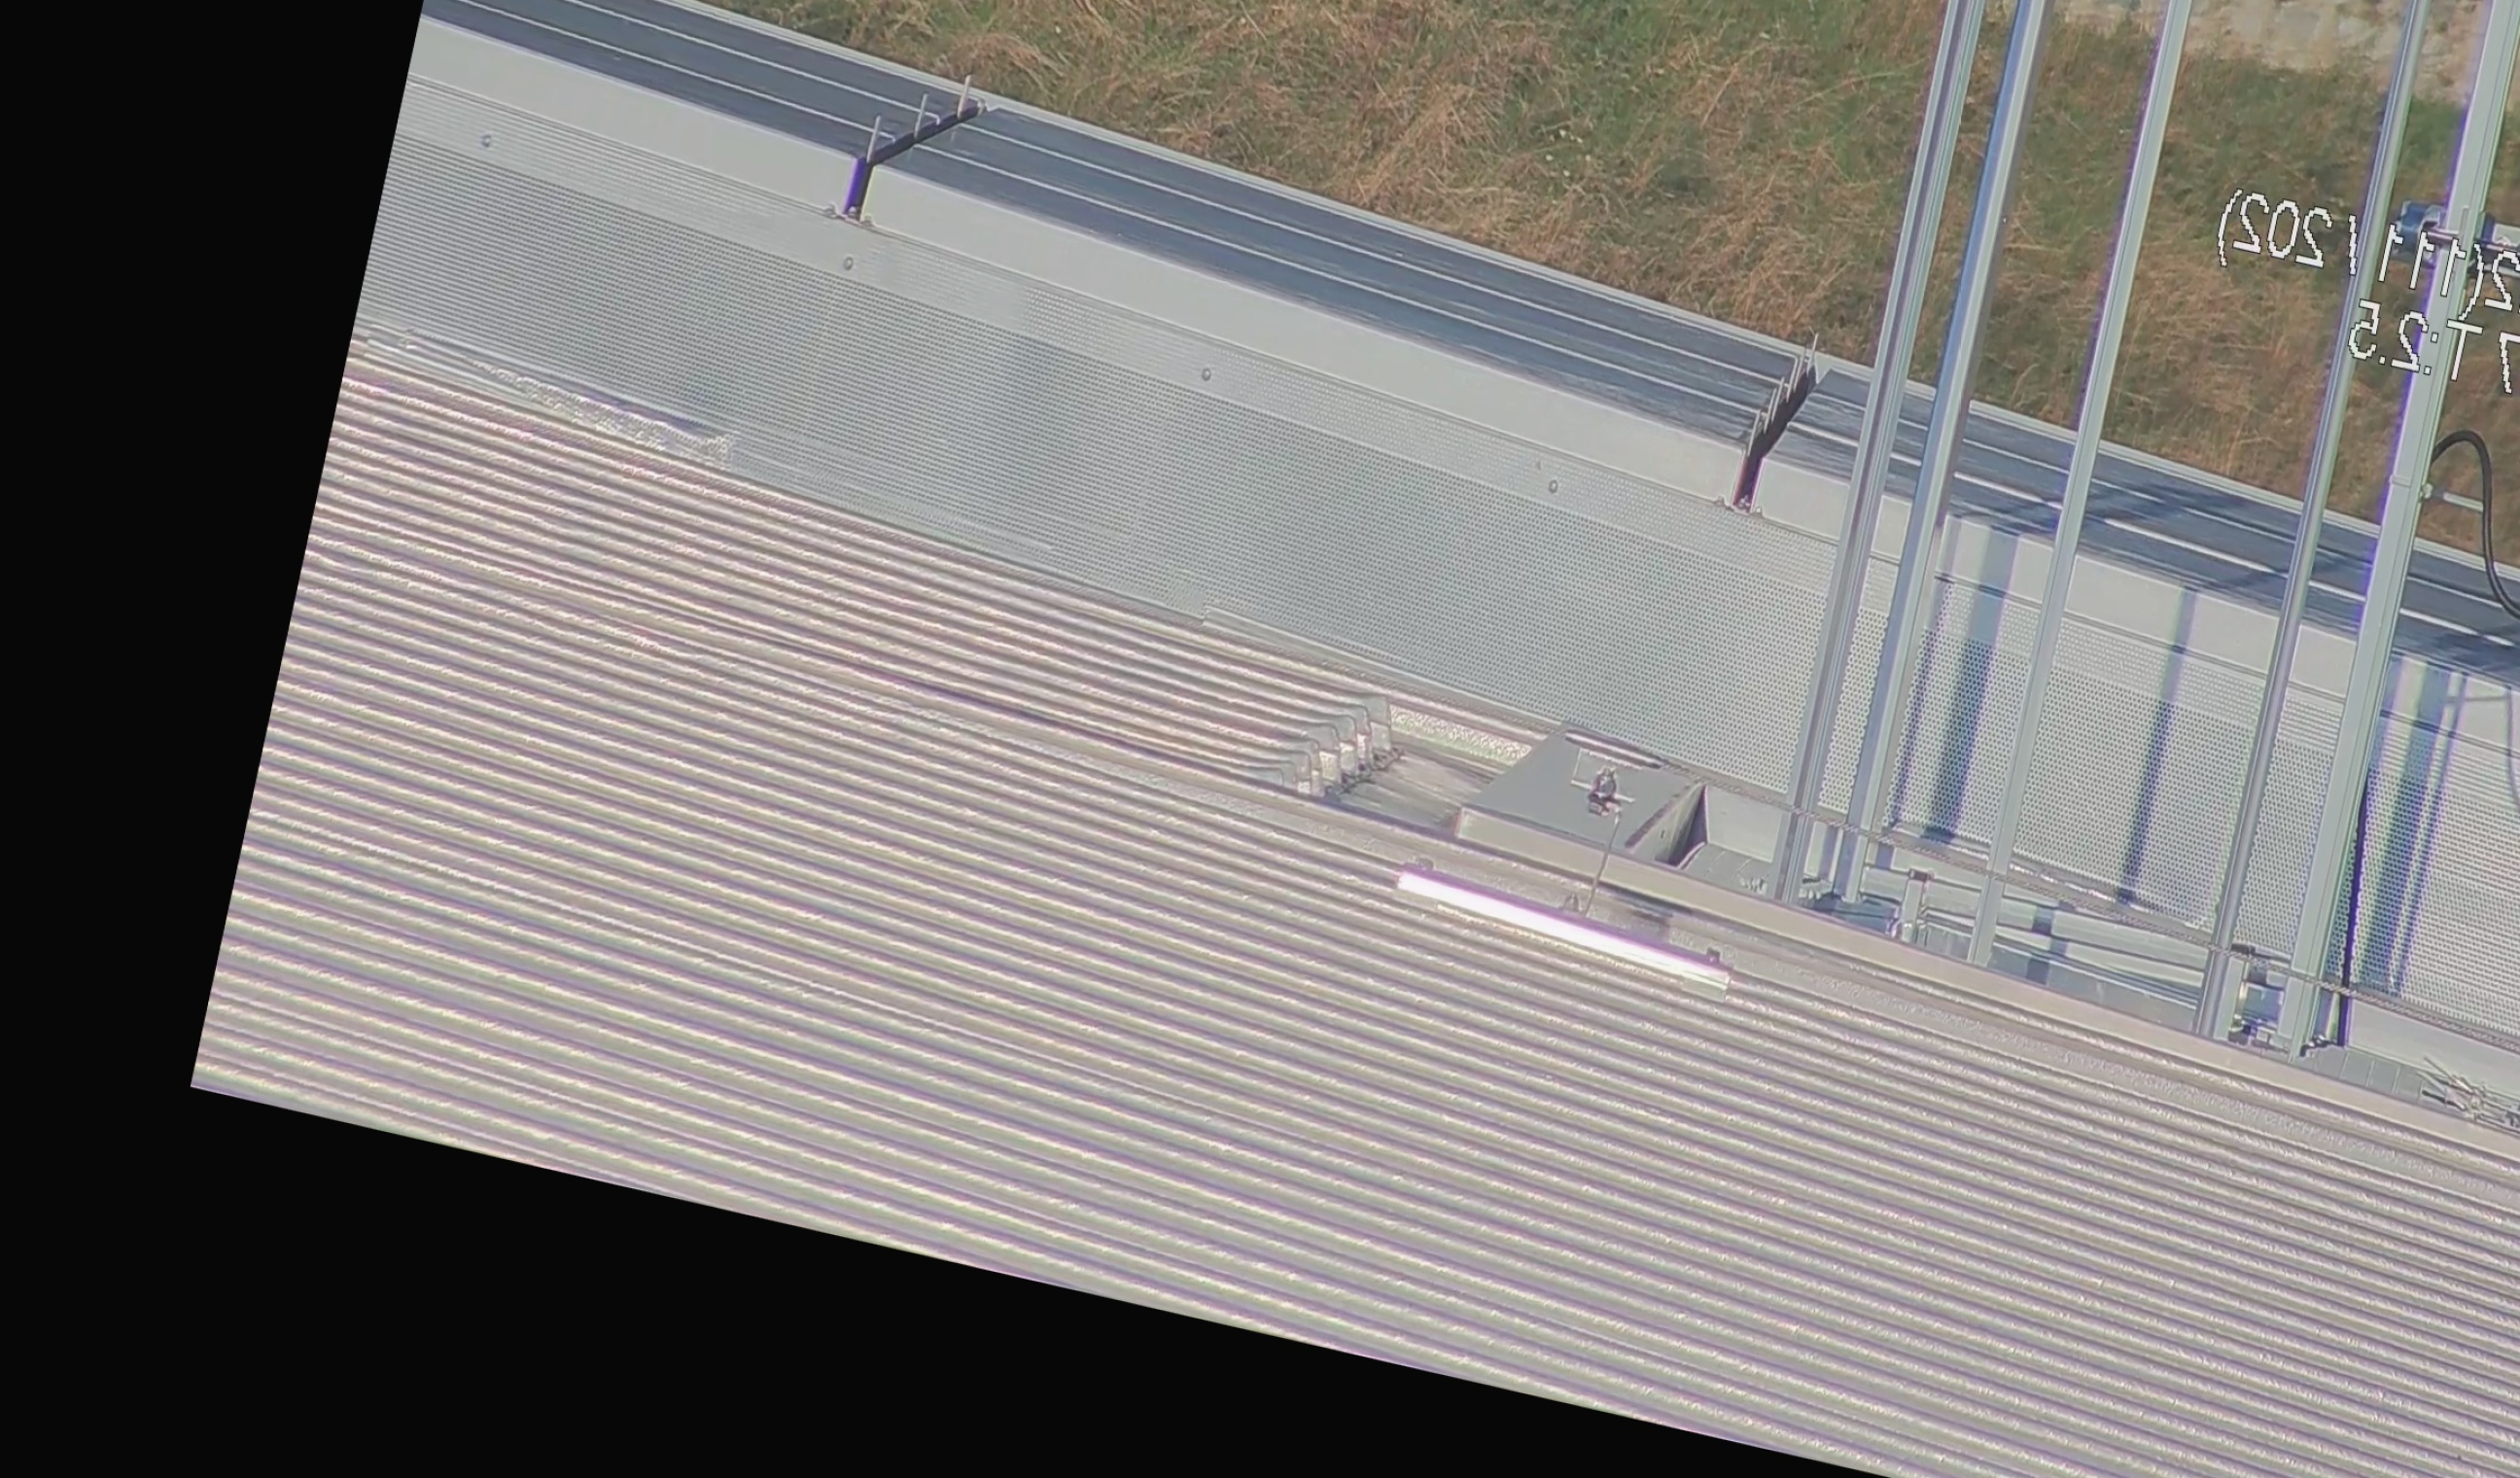Other: (1713, 311, 1854, 535)
